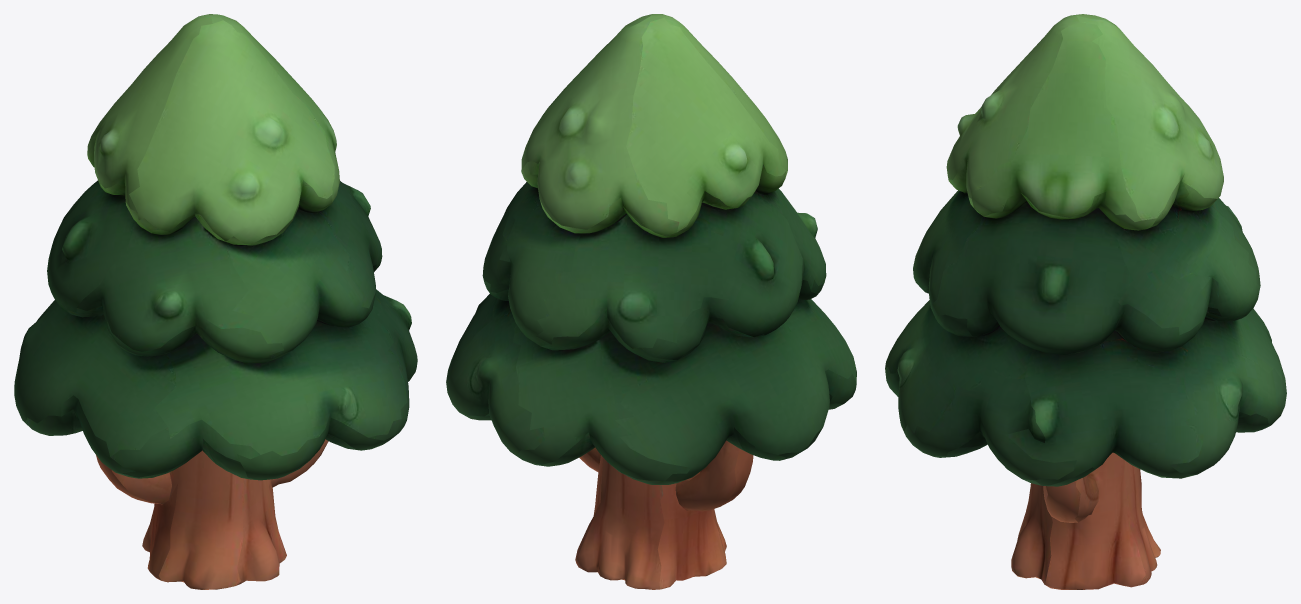
The model's file is pine.glb.
3 views of the same model, side by side, from view 1: azimuth 30°, elevation 25°; view 2: azimuth 150°, elevation 25°; view 3: azimuth 270°, elevation 25° (orthographic).
Visible parts, largest first — view 1: pine_s15; view 2: pine_s15; view 3: pine_s15.
Part boxes in pixels (bbox=[...]): pine_s15: bbox=[14, 14, 417, 589]; pine_s15: bbox=[446, 14, 856, 589]; pine_s15: bbox=[885, 14, 1286, 589].
Size of the model in its own units: 0.686 by 1 by 0.67.
Materials: 1 (1 with a texture image).
